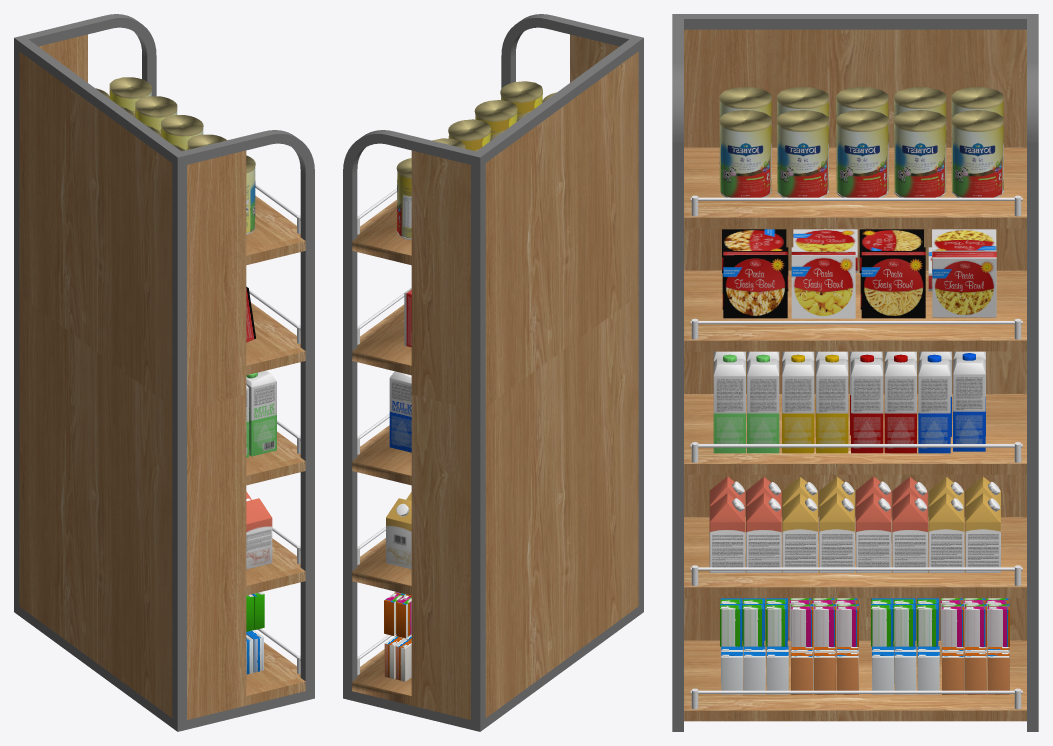
Rendered from small_display_shelf_b.glb.
3 renders of one model, left to right at view 1: azimuth 30°, elevation 25°; view 2: azimuth 150°, elevation 25°; view 3: azimuth 270°, elevation 25°, orthographic. The views are drawn at different scales.
Visible parts, largest first — view 1: 小货架B; view 2: 小货架B; view 3: 小货架B.
Part boxes in pixels (left/top/right/bottom): 小货架B: left=14, top=14, right=314, bottom=731; 小货架B: left=343, top=14, right=643, bottom=731; 小货架B: left=672, top=14, right=1038, bottom=731.
Bounding box in the file's own units: 0.3 × 1.2 × 0.62.
10 materials, 6 textured.
